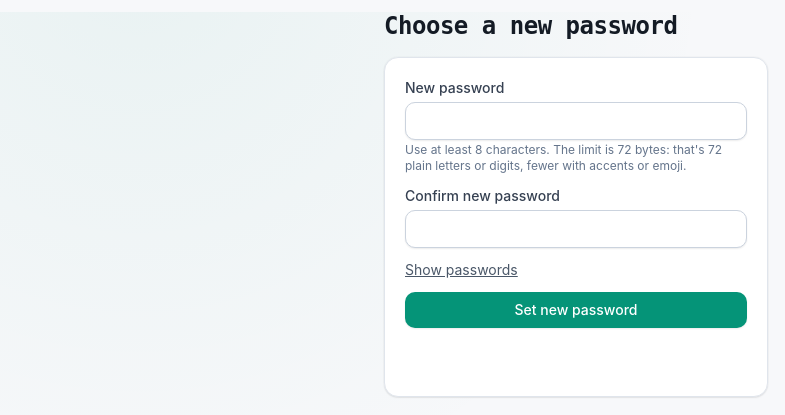
Test case: ResetPasswordPage › checks the confirmation matches
Step 1. Type "long enough 1" into the password field labelled "New password" → (576, 121), box [405, 102, 747, 140]
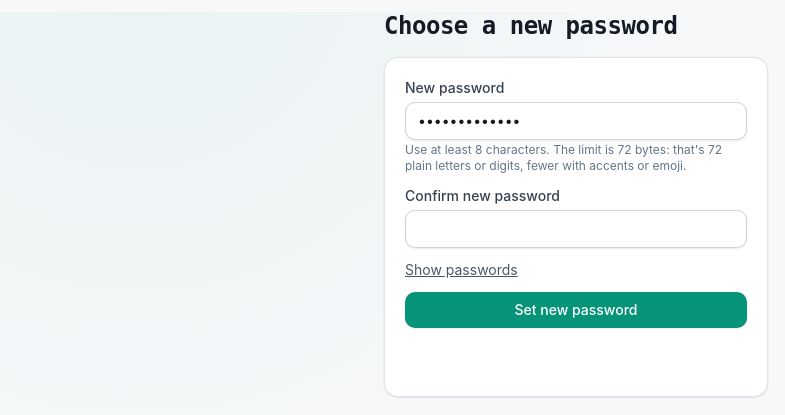
Step 2. Type "long enough 2" into the password field labelled "Confirm new password" → (576, 229), box [405, 210, 747, 248]
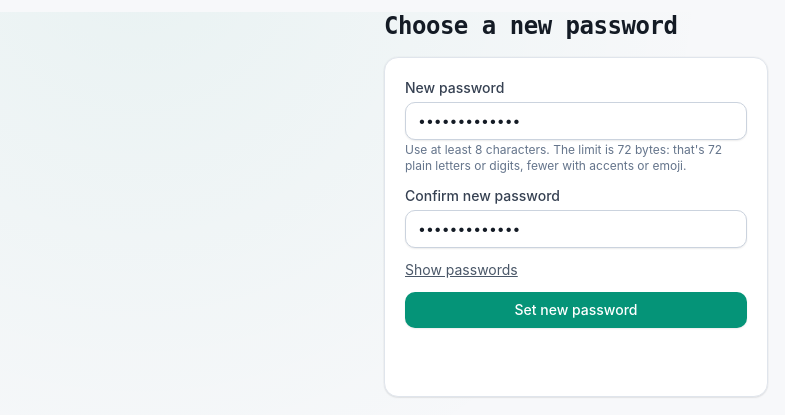
Step 3. Click the button "Set new password" → (576, 310), box [405, 292, 747, 328]
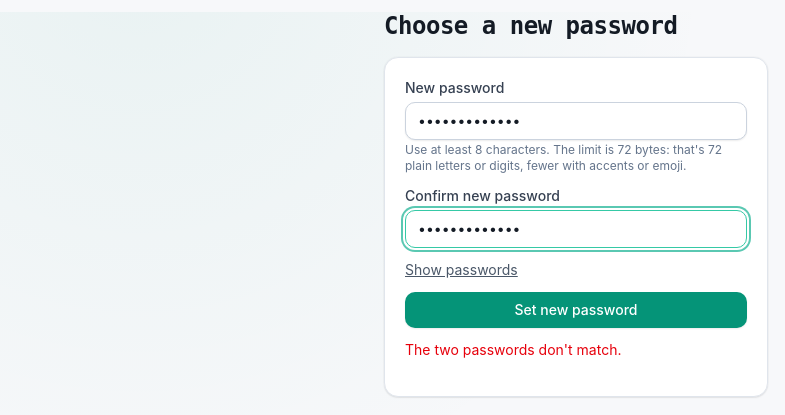
Expected: the message shows "don't match", [405, 341, 622, 358]
